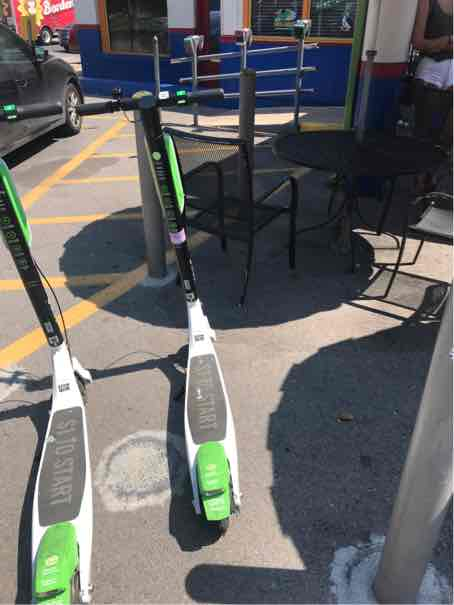scooter: (74, 86, 243, 532)
